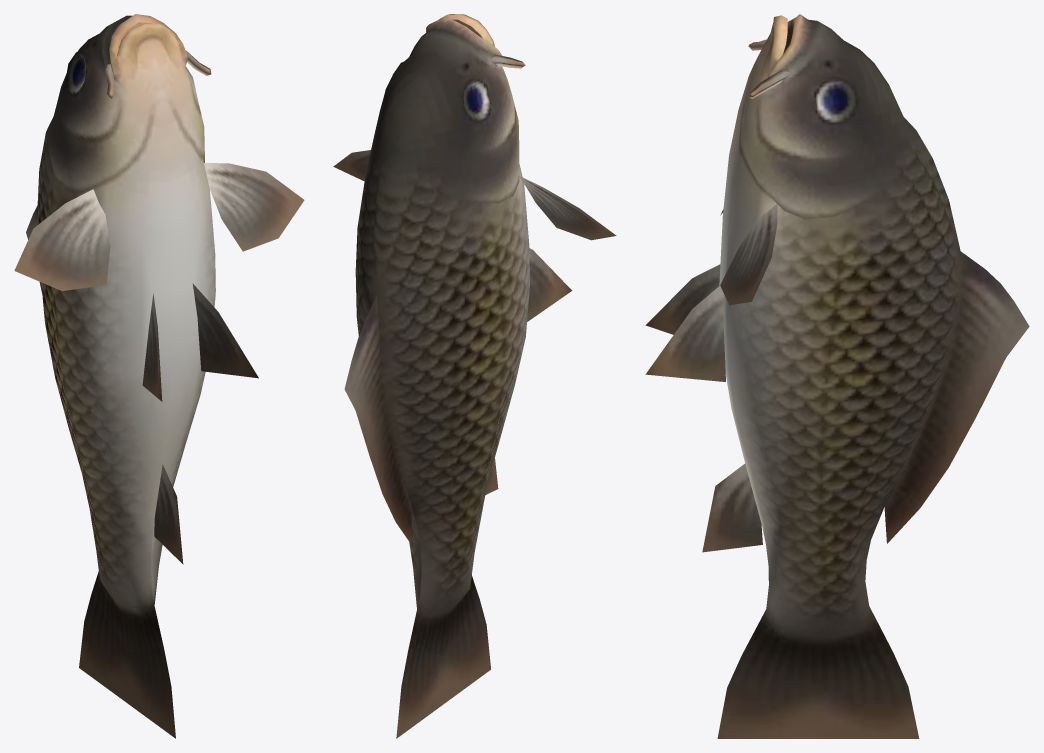
File: carp.glb
The picture shows the model from 3 angles, left to right: view 1: azimuth 30°, elevation 25°; view 2: azimuth 150°, elevation 25°; view 3: azimuth 270°, elevation 25°; orthographic projection. The views are drawn at different scales.
Visible parts, largest first — view 1: FishKoi_node7; view 2: FishKoi_node7; view 3: FishKoi_node7.
Part boxes in pixels (x1,y1,x2,y2): FishKoi_node7: [14, 14, 304, 738]; FishKoi_node7: [333, 14, 616, 738]; FishKoi_node7: [645, 14, 1029, 738].
Bounding box in the file's own units: 0.3934 × 0.9004 × 0.4339.
Materials: 1 (1 with a texture image).
